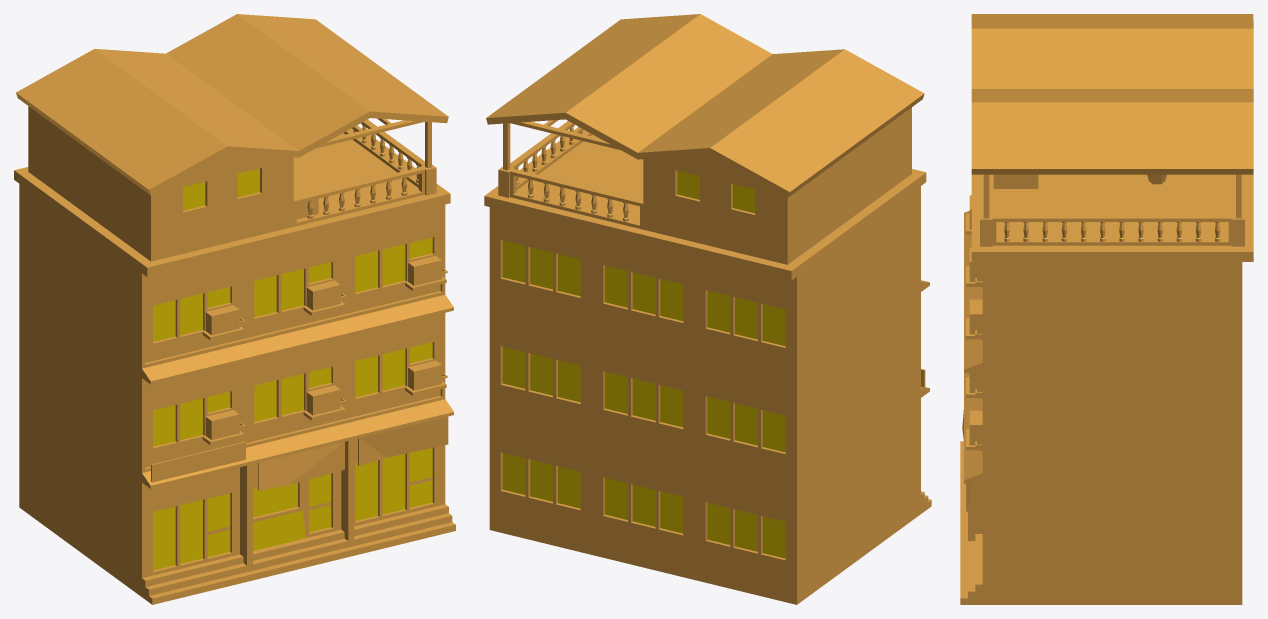
File: Building_20.fbx
3 renders of one model, left to right at view 1: azimuth 30°, elevation 25°; view 2: azimuth 150°, elevation 25°; view 3: azimuth 270°, elevation 25°, orthographic. The views are drawn at different scales.
Parts seen in each view (by area): view 1: building-street-india.002, building-street-india.001, building-street-india; view 2: building-street-india.002, building-street-india.001, building-street-india; view 3: building-street-india.002, building-street-india.001, building-street-india.
Part boxes in pixels (x1,y1,x2,y2): building-street-india.002: [14, 14, 450, 368]; building-street-india.001: [19, 365, 455, 604]; building-street-india: [19, 279, 453, 467]; building-street-india.002: [484, 14, 926, 373]; building-street-india.001: [489, 369, 931, 604]; building-street-india: [489, 280, 929, 479]; building-street-india.002: [966, 14, 1253, 362]; building-street-india.001: [960, 373, 1242, 604]; building-street-india: [964, 211, 1242, 453].
Bounding box in the file's own units: 4.2 × 5.75 × 3.31.
